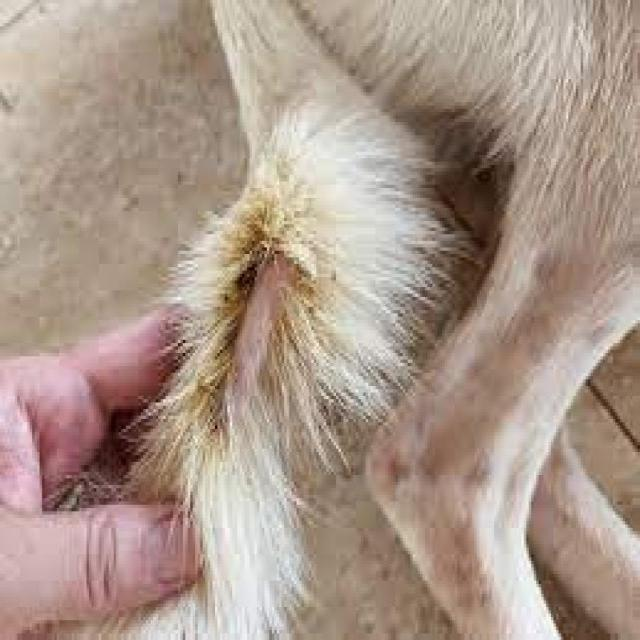allergic dermatitis: (215, 245, 303, 462)
